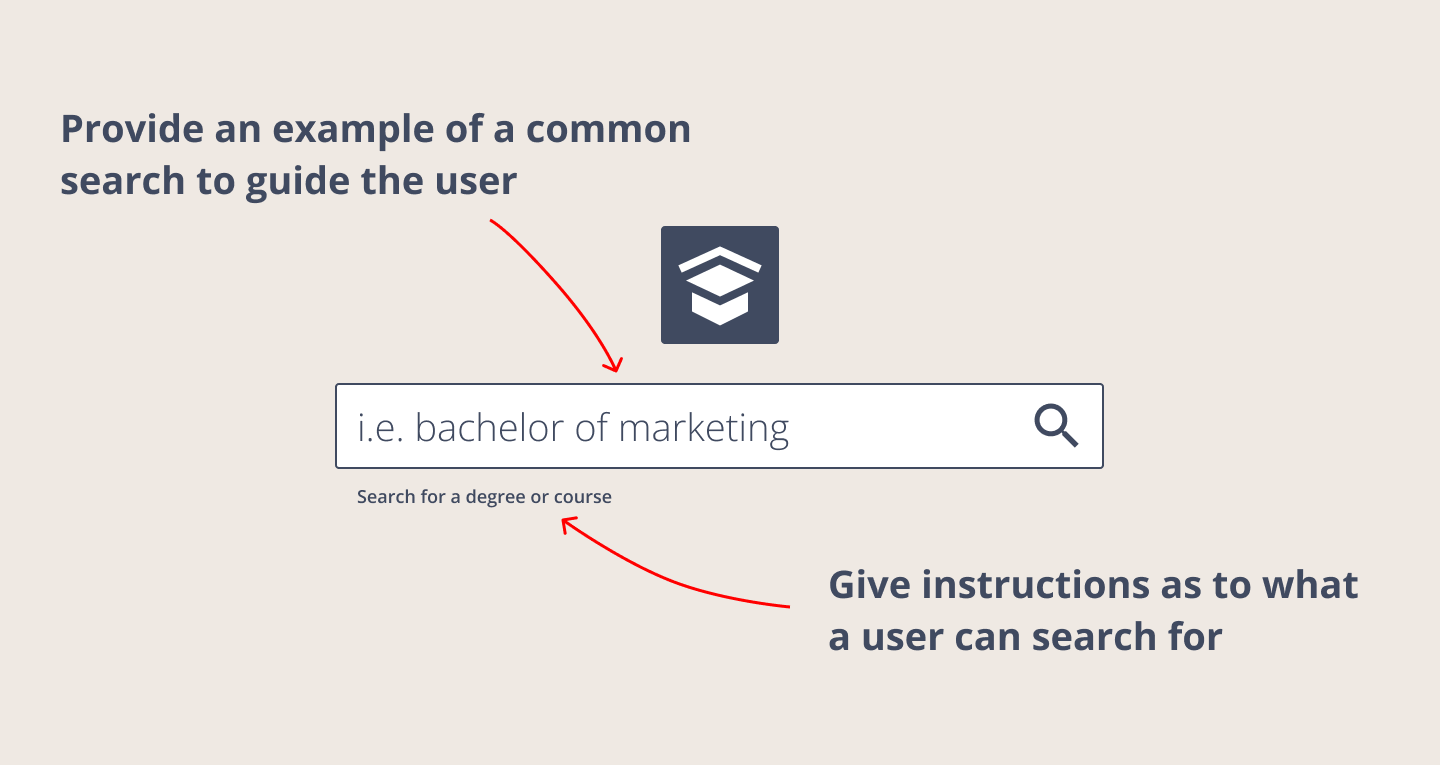search_box: (329, 381, 1106, 468)
